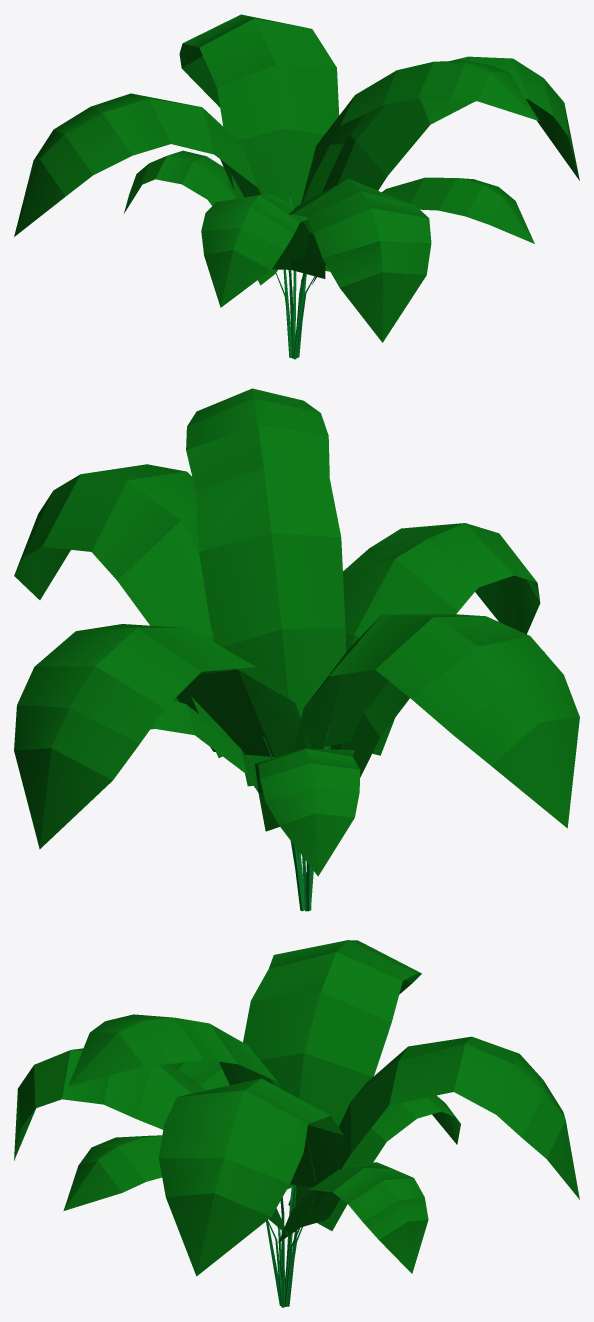
Rendered from Fern-03.fbx.
The picture shows the model from 3 angles, top to bottom: view 1: azimuth 30°, elevation 25°; view 2: azimuth 150°, elevation 25°; view 3: azimuth 270°, elevation 25°; orthographic projection. The views are drawn at different scales.
Visible parts, largest first — view 1: Fern-03; view 2: Fern-03; view 3: Fern-03.
Boxes of the visible parts, x1,y1,x2,y2 form: Fern-03: [14, 14, 579, 359]; Fern-03: [14, 388, 579, 911]; Fern-03: [14, 940, 579, 1307].
Size of the model in its own units: 2.88 by 1.8 by 2.71.
